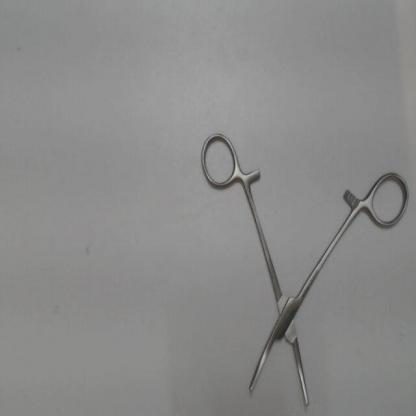Crile Artery Forceps: (197, 125, 412, 410)
